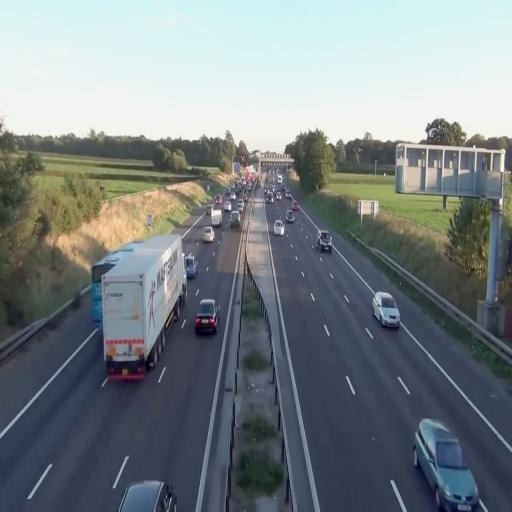vehicle: (99, 232, 187, 382), (414, 417, 484, 511), (118, 479, 178, 512), (372, 291, 401, 330), (195, 297, 219, 335), (184, 255, 198, 280), (318, 231, 332, 253), (202, 225, 216, 244), (273, 218, 285, 236), (286, 209, 296, 223)
